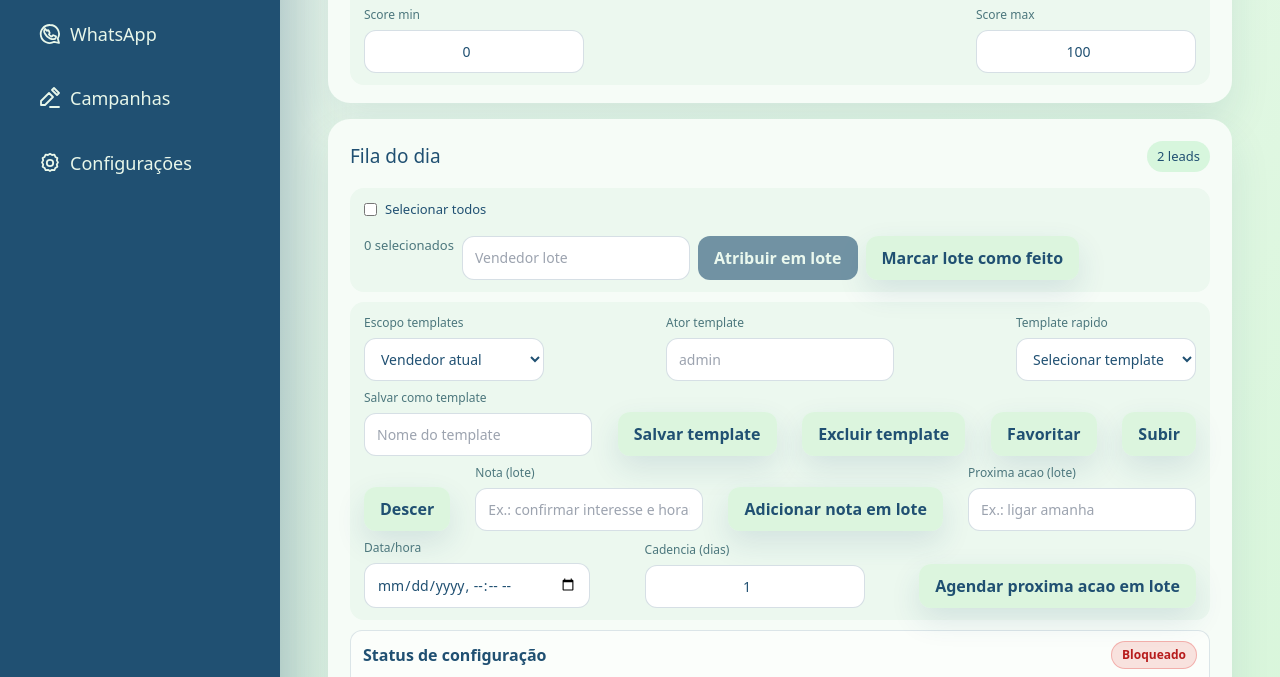
Test: SDR page › applies quick template to batch fields
(page scrolled)
Select "Enviar proposta" in the dropdown labelled "Template rapido": (1106, 359) [1016,338,1196,380]
(page scrolled)
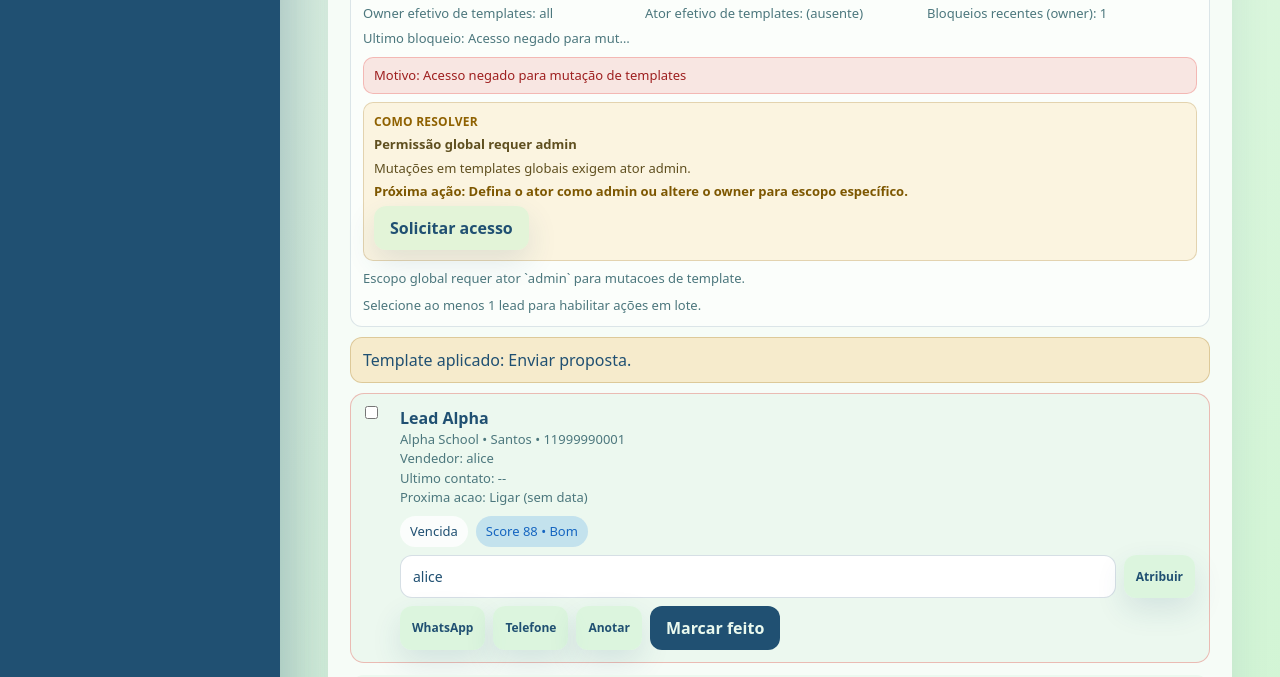
Result: the text "Template aplicado: Enviar proposta." is shown at [350,336,1210,382]
